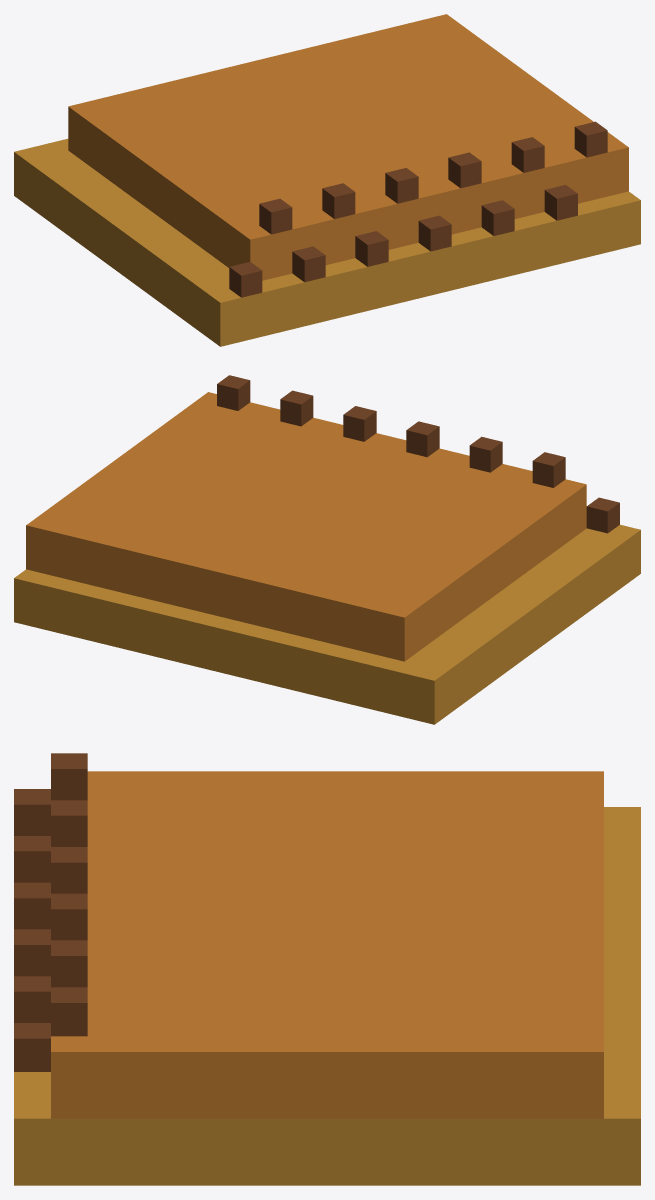
File: voxel_32_40019.glb
3 renders of one model, top to bottom at view 1: azimuth 30°, elevation 25°; view 2: azimuth 150°, elevation 25°; view 3: azimuth 270°, elevation 25°, orthographic. The views are drawn at different scales.
Visible parts, largest first — view 1: prop_40019; view 2: prop_40019; view 3: prop_40019.
Boxes of the visible parts, x1=… form: prop_40019: x1=14, y1=14, x2=640, y2=346; prop_40019: x1=14, y1=375, x2=640, y2=724; prop_40019: x1=14, y1=753, x2=640, y2=1185.
Bounding box in the file's own units: 0.5188 × 0.1297 × 0.4409.
